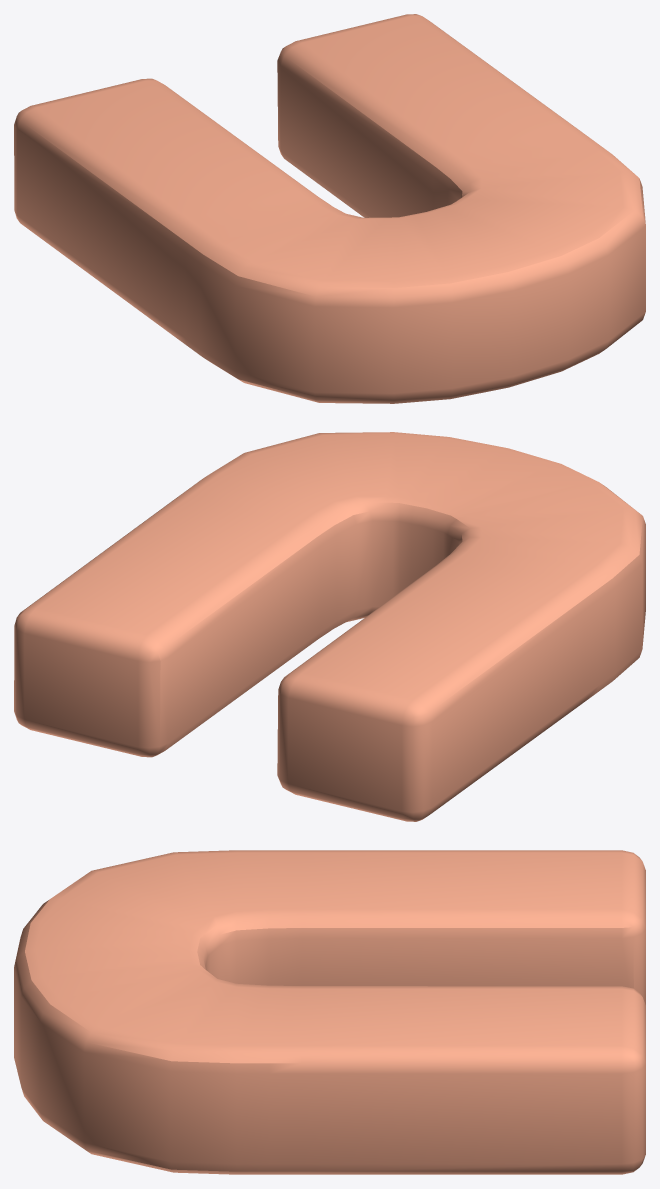
3 views of the same model, one above another, from view 1: azimuth 30°, elevation 25°; view 2: azimuth 150°, elevation 25°; view 3: azimuth 270°, elevation 25° (orthographic). The views are drawn at different scales.
Visible parts, largest first — view 1: Cube; view 2: Cube; view 3: Cube.
Part boxes in pixels (box(x1,y1,x2,y2)): Cube: box(14, 14, 645, 403); Cube: box(14, 432, 645, 821); Cube: box(14, 850, 645, 1174).
Size of the model in its own units: 644 by 178 by 808.
